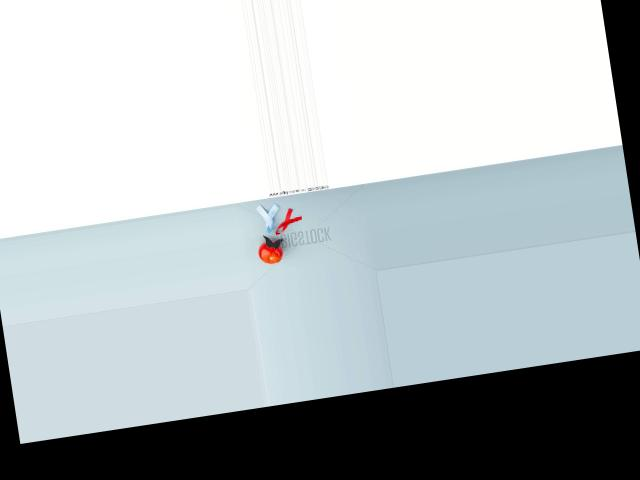tomato: (257, 238, 284, 265)
